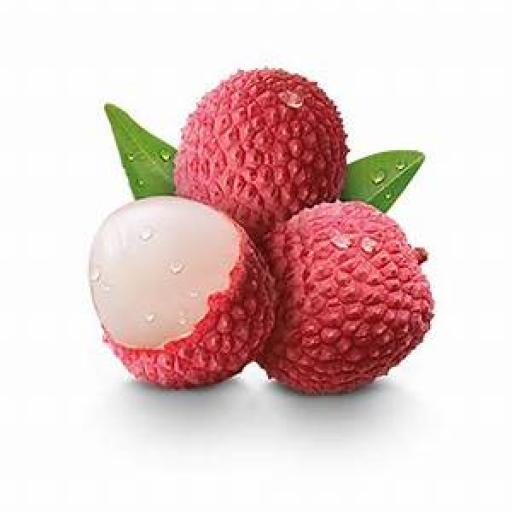lychee: (89, 197, 274, 389), (260, 202, 433, 392), (175, 69, 348, 238)
